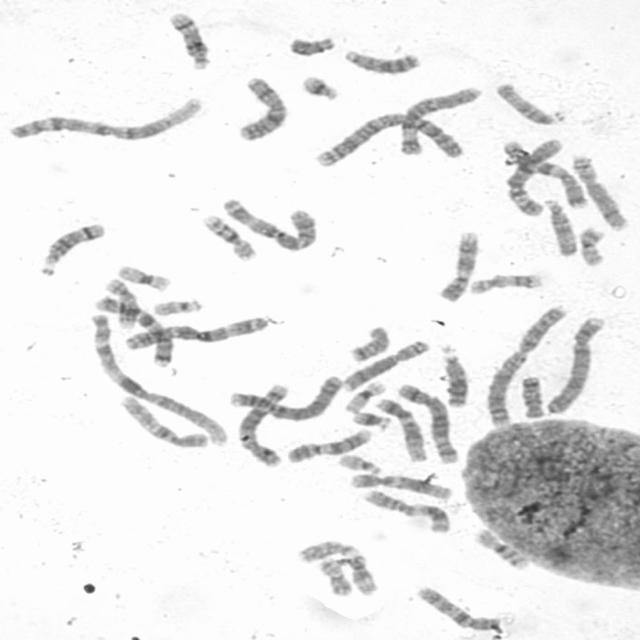A1: (86, 296, 228, 450), (3, 94, 205, 143)
A2: (482, 303, 570, 428), (309, 110, 466, 168)
A3: (218, 195, 318, 252), (120, 314, 270, 351)
B4: (541, 313, 607, 415), (225, 372, 344, 423)
B5: (394, 380, 461, 466), (234, 381, 290, 468)
C10: (116, 392, 212, 451), (412, 584, 505, 632)
C11: (295, 539, 384, 598), (361, 487, 453, 534)
C12: (374, 395, 429, 463), (346, 470, 454, 500)
C6: (393, 83, 483, 158), (501, 136, 566, 220)
C7: (499, 137, 590, 210), (91, 292, 176, 369)
C8: (339, 338, 431, 392), (569, 153, 630, 232)
C9: (435, 228, 482, 303), (283, 426, 373, 464)
D13: (341, 46, 422, 76), (437, 344, 471, 409)
D14: (36, 220, 108, 277), (166, 8, 213, 72)
D15: (493, 80, 563, 126), (540, 196, 579, 257)
E16: (198, 212, 259, 263), (472, 526, 531, 572)
E17: (465, 270, 545, 296), (101, 275, 139, 329)
E18: (346, 323, 392, 363), (517, 373, 545, 419)
F19: (341, 379, 390, 414), (114, 263, 173, 292)
F20: (316, 557, 355, 597), (576, 225, 609, 268)
G21: (298, 72, 342, 102), (349, 408, 393, 432)
G22: (335, 451, 383, 475), (150, 296, 204, 317)
X: (234, 74, 290, 143)
Y: (285, 34, 336, 58)
